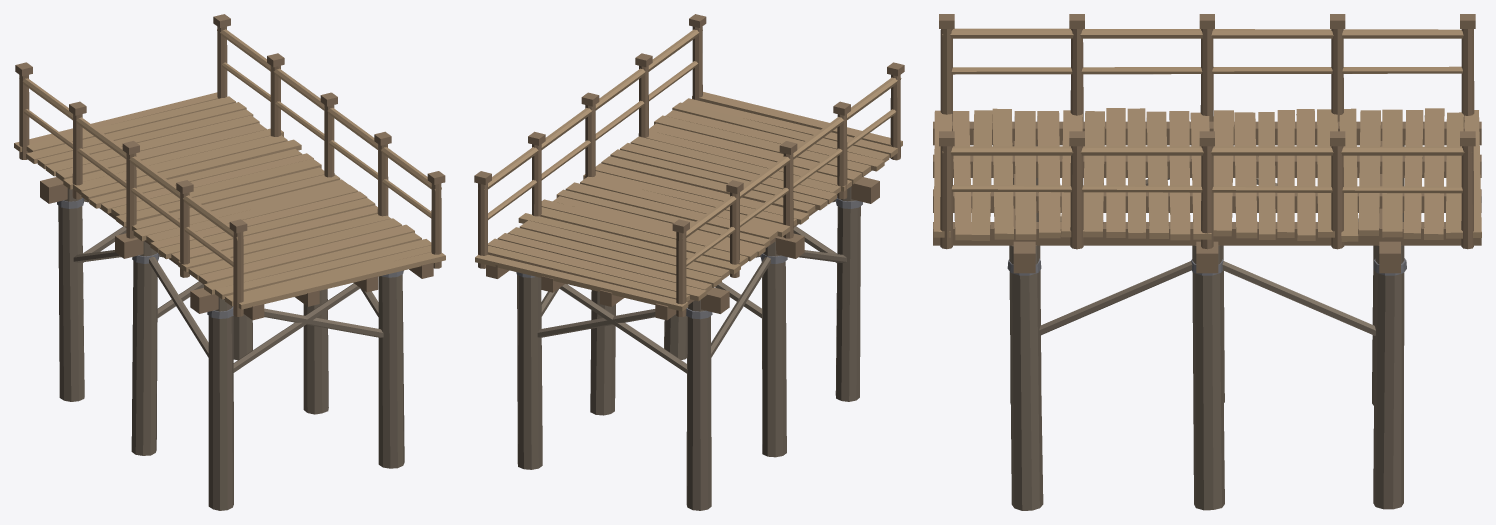
File: D02_木栈桥段.fbx
3 renders of one model, left to right at view 1: azimuth 30°, elevation 25°; view 2: azimuth 150°, elevation 25°; view 3: azimuth 270°, elevation 25°, orthographic. The views are drawn at different scales.
Parts seen in each view (by area): view 1: D02_桥板, D02_木桩, D02_栏杆柱, D02_扶手, D02_剪刀撑, D02_横梁, D02_纵向斜撑, D02_纵梁, D02_木桩_箍; view 2: D02_桥板, D02_木桩, D02_栏杆柱, D02_扶手, D02_剪刀撑, D02_横梁, D02_纵向斜撑, D02_纵梁, D02_木桩_箍; view 3: D02_桥板, D02_木桩, D02_扶手, D02_栏杆柱, D02_纵梁, D02_纵向斜撑, D02_横梁.
Boxes of the visible parts, x1,y1,x2,y2 form: D02_桥板: [14, 92, 445, 309]; D02_木桩: [58, 188, 404, 510]; D02_栏杆柱: [15, 14, 445, 316]; D02_扶手: [23, 29, 441, 266]; D02_剪刀撑: [83, 199, 383, 372]; D02_横梁: [40, 177, 218, 313]; D02_纵向斜撑: [73, 250, 378, 357]; D02_纵梁: [99, 207, 433, 320]; D02_木桩_箍: [57, 198, 403, 318]; D02_桥板: [475, 92, 902, 311]; D02_木桩: [517, 186, 860, 510]; D02_栏杆柱: [474, 14, 904, 316]; D02_扶手: [478, 29, 901, 266]; D02_剪刀撑: [537, 199, 836, 373]; D02_横梁: [701, 177, 879, 313]; D02_纵向斜撑: [541, 250, 846, 357]; D02_纵梁: [486, 170, 871, 320]; D02_木桩_箍: [516, 196, 862, 319]; D02_桥板: [933, 108, 1481, 241]; D02_木桩: [1009, 145, 1404, 510]; D02_扶手: [942, 28, 1472, 193]; D02_栏杆柱: [939, 14, 1475, 249]; D02_纵梁: [933, 121, 1481, 245]; D02_纵向斜撑: [1039, 178, 1375, 335]; D02_横梁: [1013, 141, 1400, 273].
Bounding box in the file's own units: 340 × 455 × 600.
